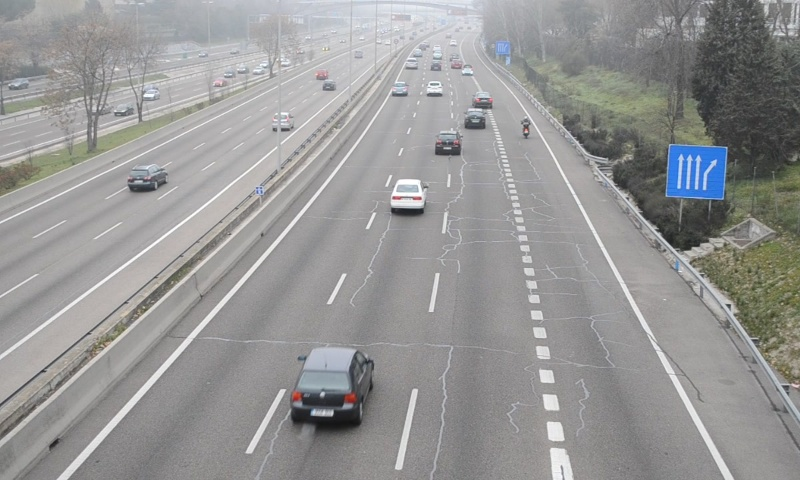car: (291, 346, 374, 424), (390, 178, 427, 209), (435, 130, 462, 155), (464, 108, 486, 129), (473, 91, 494, 107), (426, 80, 444, 96), (391, 81, 408, 96)
motorcycle: (521, 116, 532, 138)
